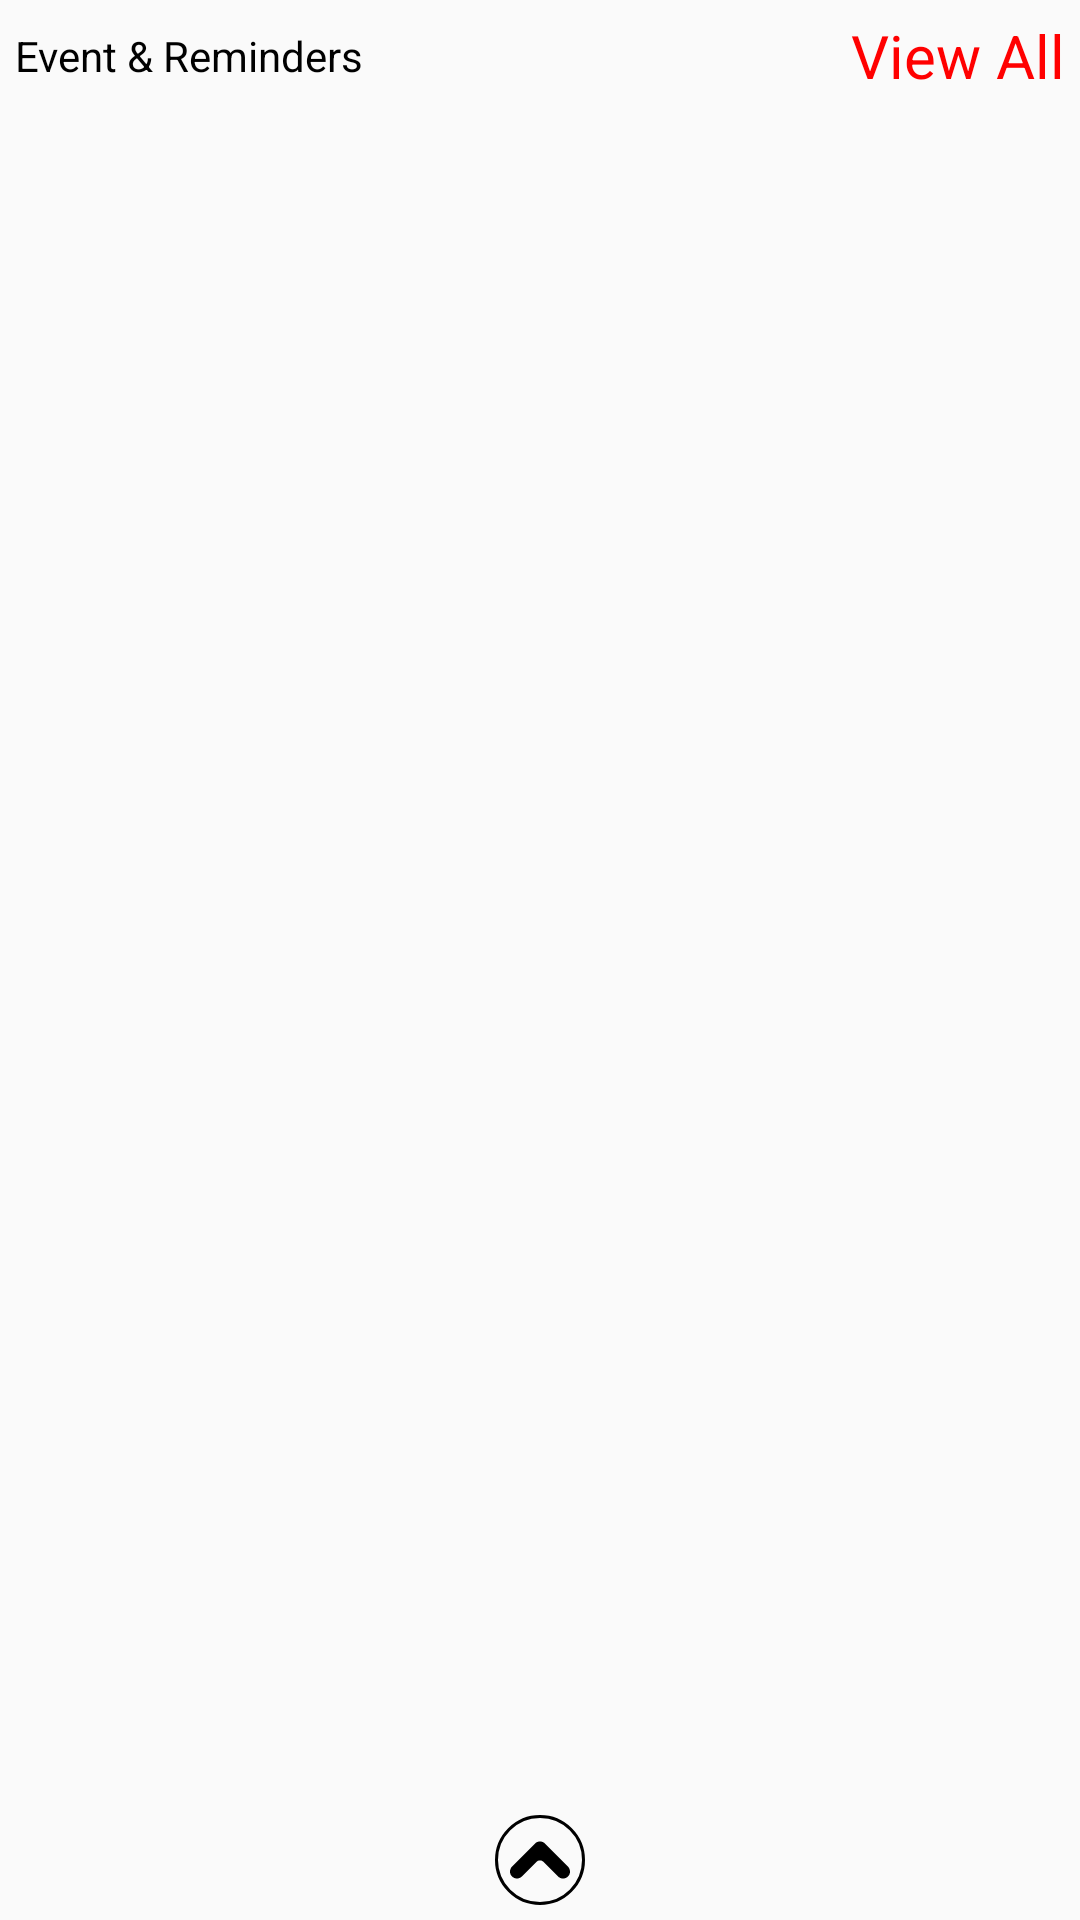

Named icons in this screenshot (1080w x 1920h) and their centers, point (x, y):
up arrow: point (540, 1860)
